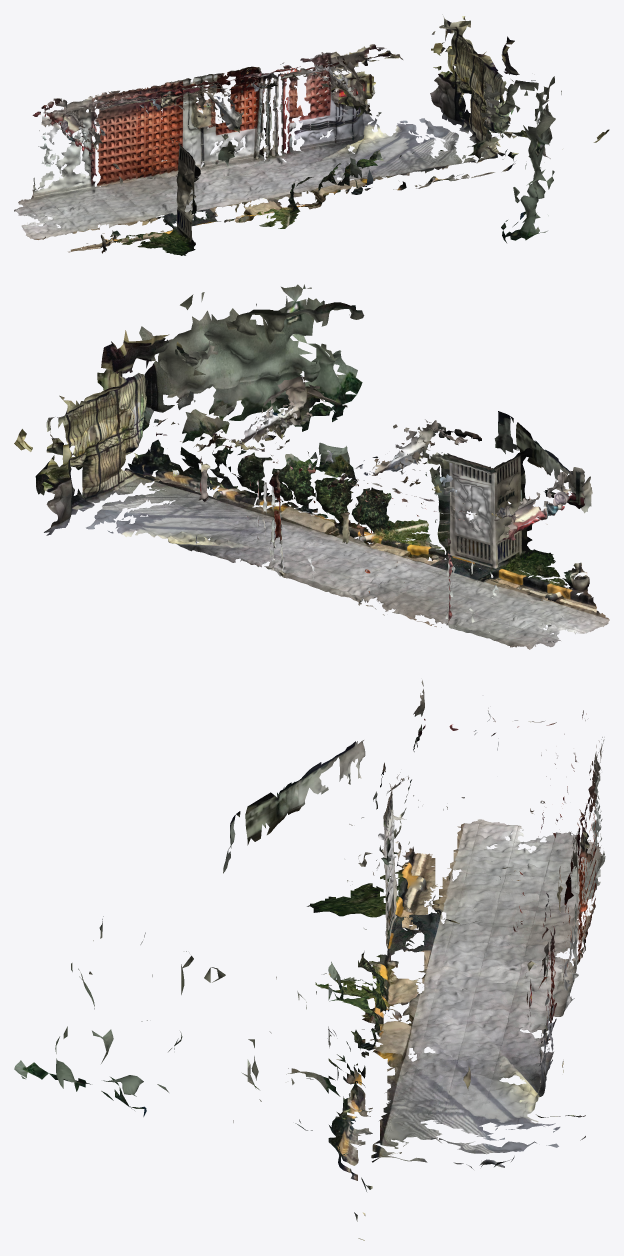
File: 140531-bilikdahak-tex.glb
The picture shows the model from 3 angles, top to bottom: view 1: azimuth 30°, elevation 25°; view 2: azimuth 150°, elevation 25°; view 3: azimuth 270°, elevation 25°; orthographic projection. The views are drawn at different scales.
Parts seen in each view (by area): view 1: Node; view 2: Node; view 3: Node.
Part boxes in pixels (<box>): Node: <box>14,14,609,255</box>; Node: <box>14,284,609,649</box>; Node: <box>14,680,605,1240</box>.
Size of the model in its own units: 14.84 by 3.37 by 8.99.
18 materials, 18 textured.
